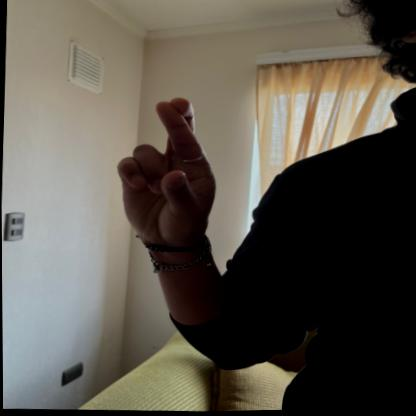R: (107, 89, 223, 252)
